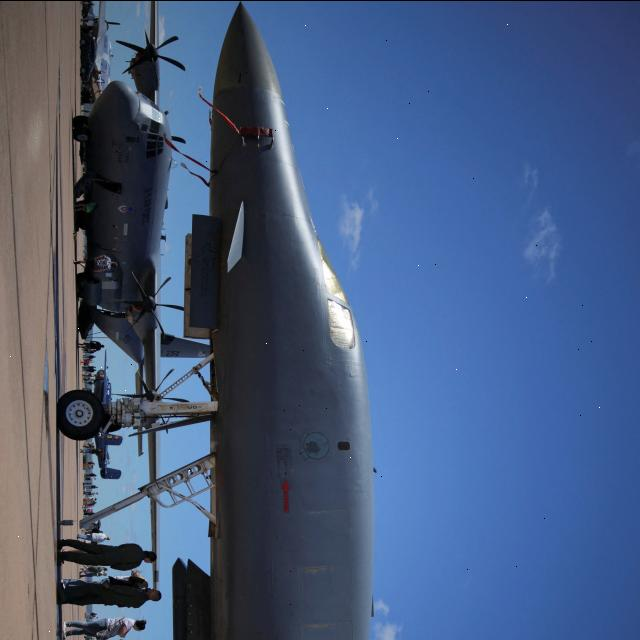B1: (41, 0, 410, 640), (41, 5, 200, 595)
